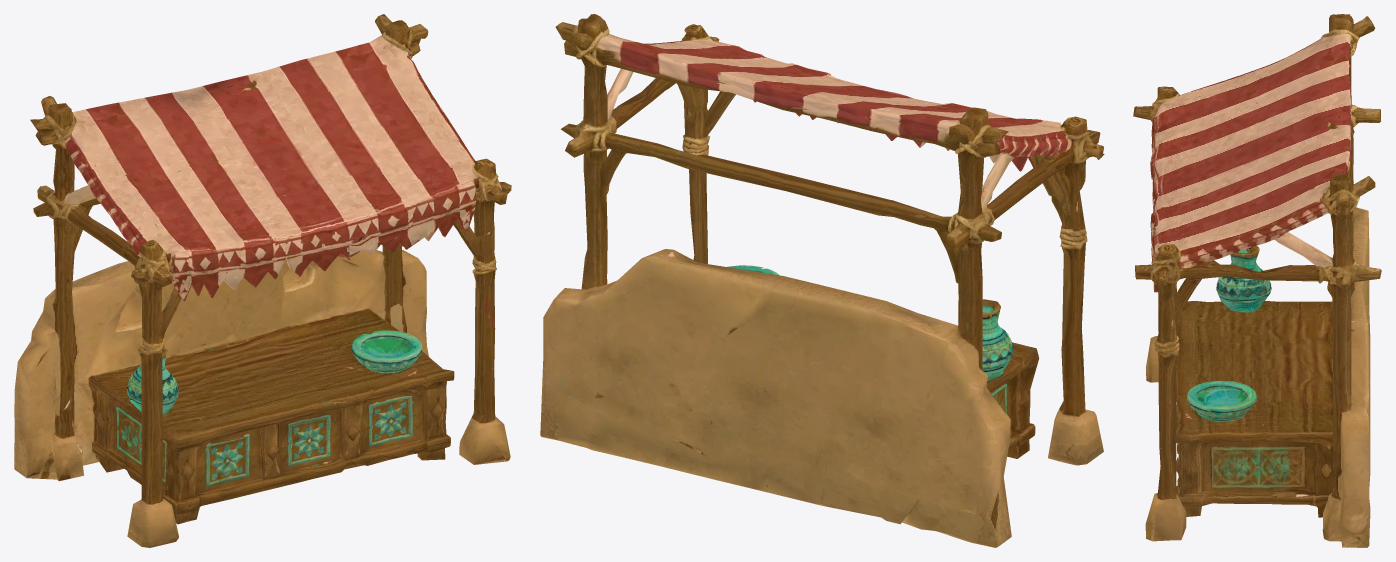
File: MarketStall.glb
The picture shows the model from 3 angles, left to right: view 1: azimuth 30°, elevation 25°; view 2: azimuth 150°, elevation 25°; view 3: azimuth 270°, elevation 25°; orthographic projection. The views are drawn at different scales.
Bounding box in the file's own units: 1.89 × 1.65 × 1.04.
Materials: 1 (1 with a texture image).
